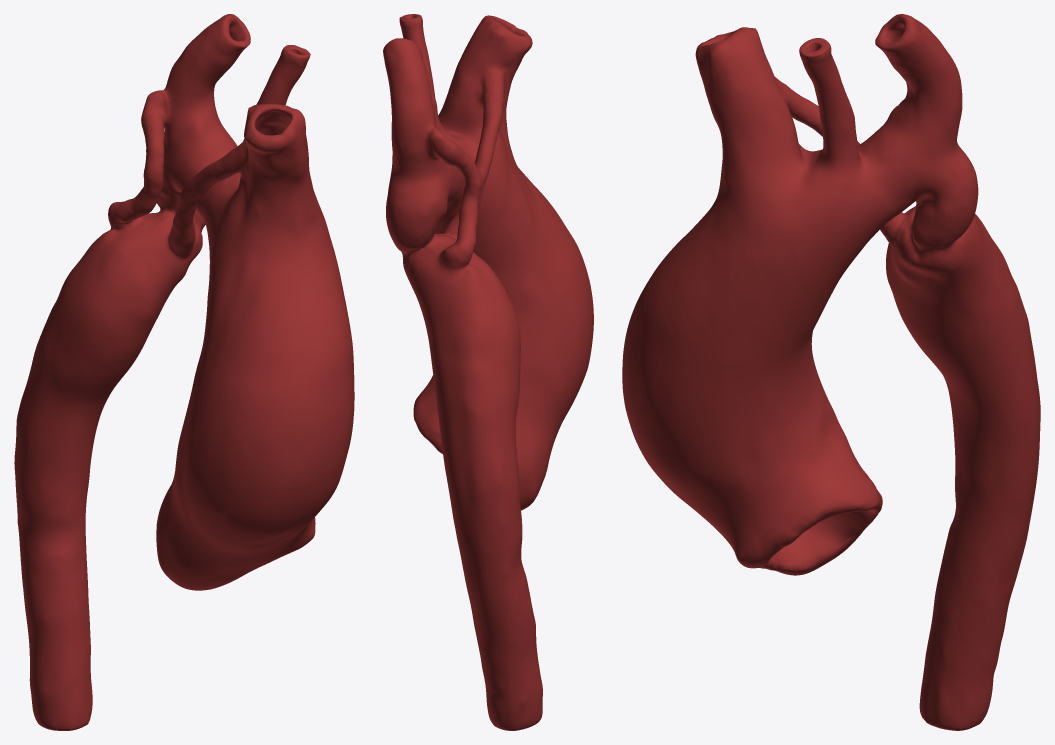
Rendered from coarctation_of_the_aorta.glb.
The picture shows the model from 3 angles, left to right: view 1: azimuth 30°, elevation 25°; view 2: azimuth 150°, elevation 25°; view 3: azimuth 270°, elevation 25°; orthographic projection. The views are drawn at different scales.
Visible parts, largest first — view 1: 170125_V1_Coarctatio_Aortae; view 2: 170125_V1_Coarctatio_Aortae; view 3: 170125_V1_Coarctatio_Aortae.
Boxes of the visible parts, x1=… form: 170125_V1_Coarctatio_Aortae: x1=14, y1=14, x2=354, y2=730; 170125_V1_Coarctatio_Aortae: x1=383, y1=14, x2=593, y2=730; 170125_V1_Coarctatio_Aortae: x1=622, y1=14, x2=1040, y2=730.
Bounding box in the file's own units: 64.11 × 198 × 95.67.
